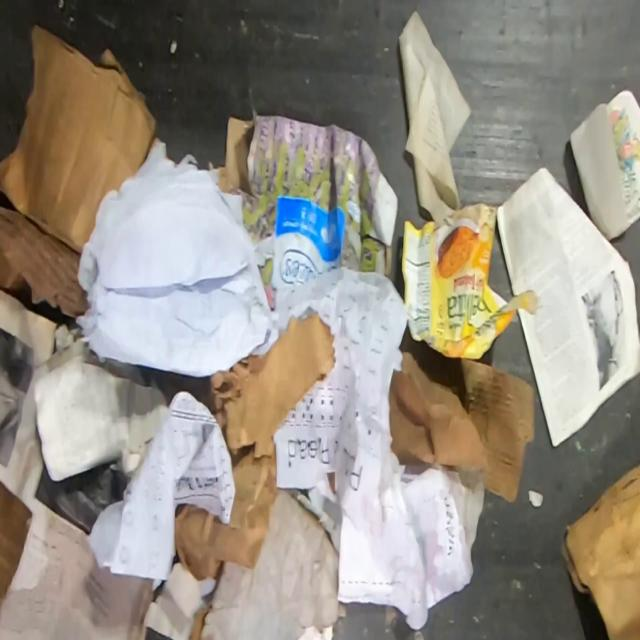cardboard: (0, 21, 159, 254), (216, 114, 400, 285), (389, 350, 536, 505), (400, 199, 540, 359), (197, 309, 336, 465), (558, 462, 640, 640), (566, 87, 640, 244), (0, 206, 90, 319), (0, 480, 32, 607)
